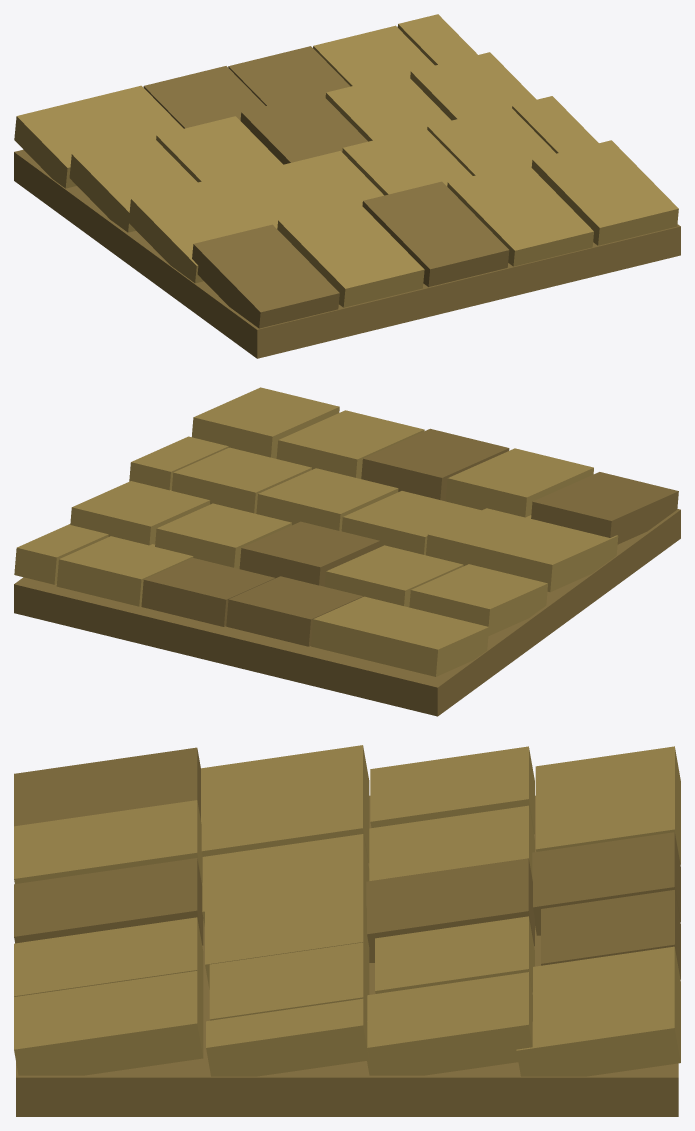
File: roof_thatch.glb
3 views of the same model, one above another, from view 1: azimuth 30°, elevation 25°; view 2: azimuth 150°, elevation 25°; view 3: azimuth 270°, elevation 25° (orthographic). The views are drawn at different scales.
Parts seen in each view (by area): view 1: Roof_Thatch; view 2: Roof_Thatch; view 3: Roof_Thatch.
Boxes of the visible parts, x1,y1,x2,y2 form: Roof_Thatch: (14, 14, 680, 358); Roof_Thatch: (14, 387, 680, 716); Roof_Thatch: (14, 745, 680, 1116).
Bounding box in the file's own units: 1.52 × 0.235 × 1.52.
